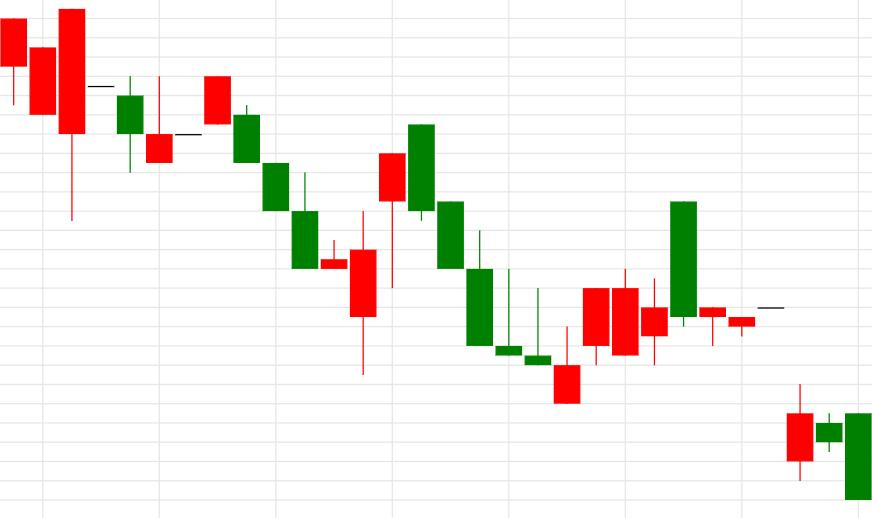three_black_crows_fall: (321, 123, 494, 375), (145, 76, 318, 269)
